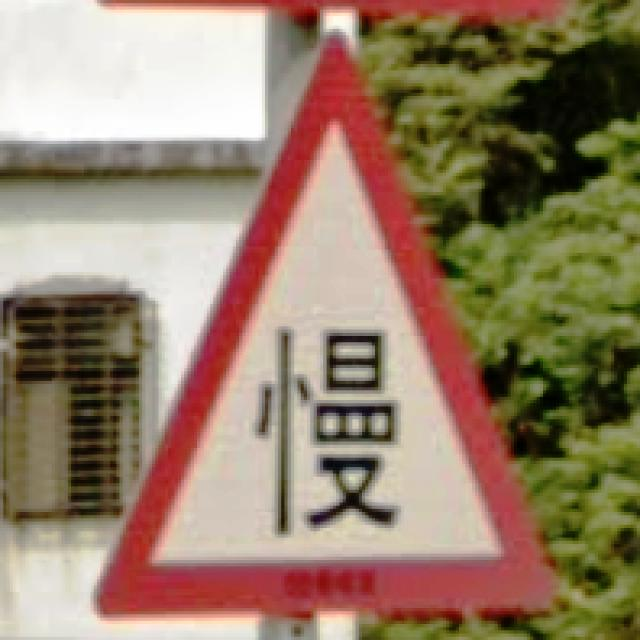slow: (98, 35, 553, 616)
